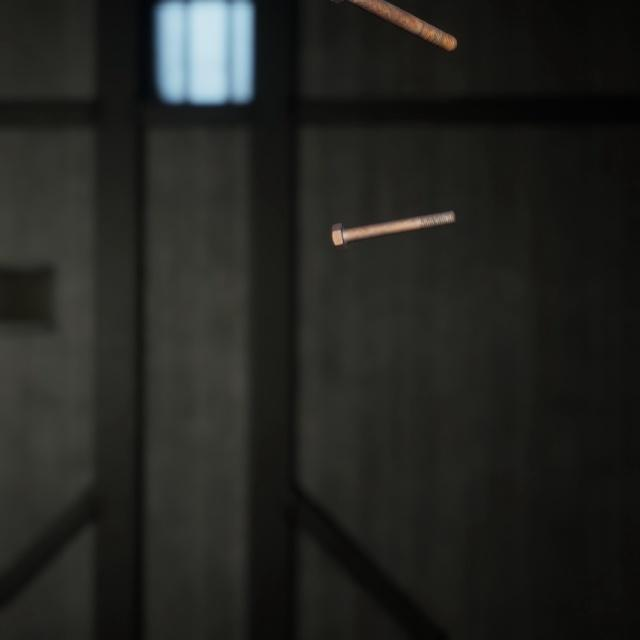bolt: (326, 191, 460, 241), (351, 0, 461, 49)
